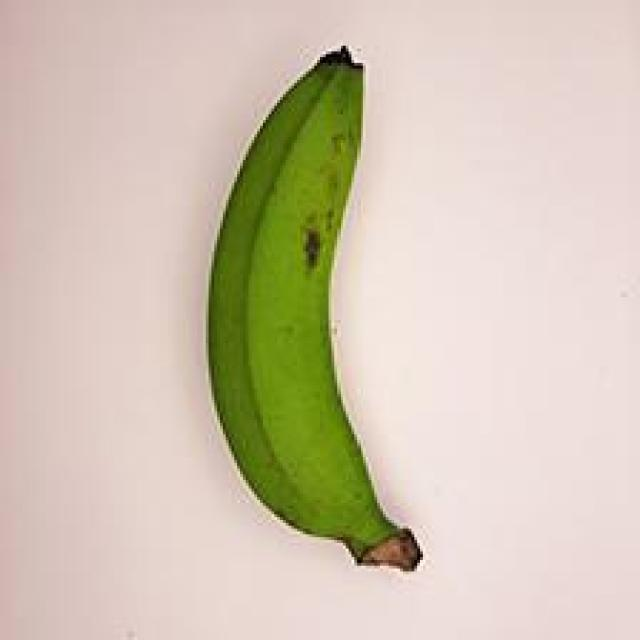Raw: (186, 34, 435, 592)
